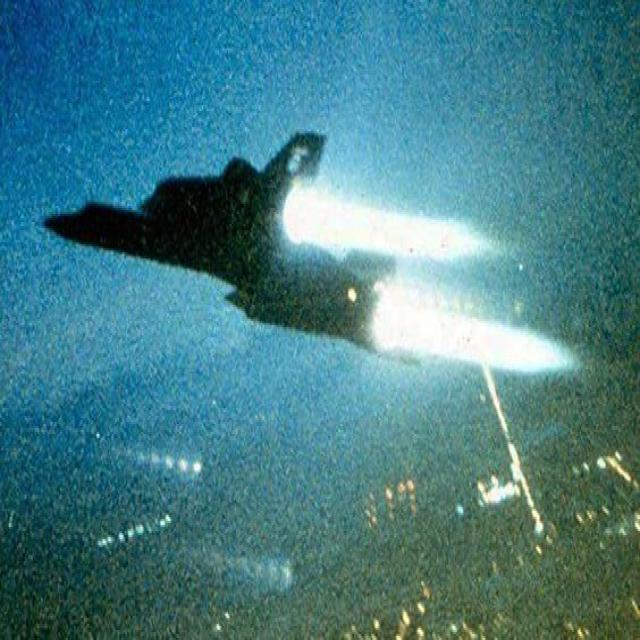MIL_Plane: (41, 129, 423, 370)
